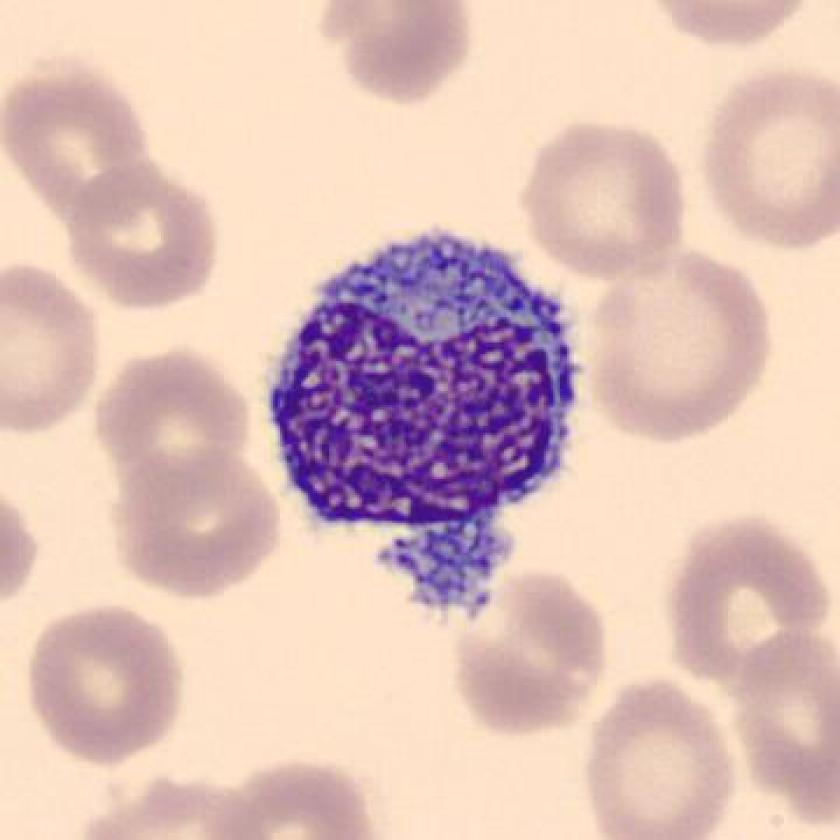monocyte: (246, 207, 612, 637)
